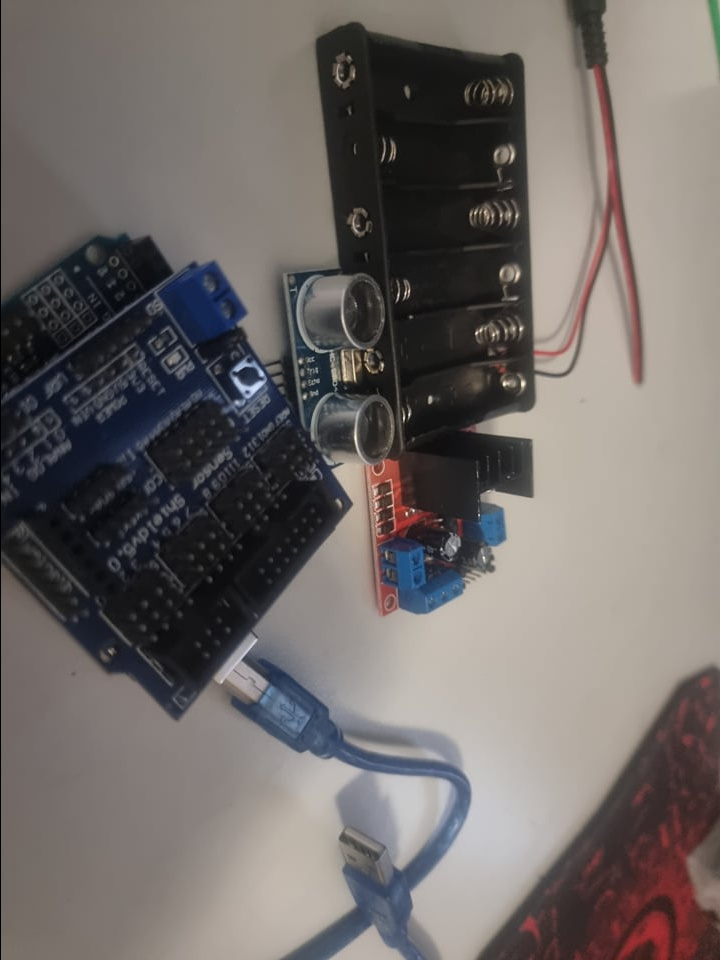5V EXPANSION: (8, 267, 360, 722)
BATTERY BOX: (324, 19, 540, 451)
MOTOR: (364, 424, 535, 620)
SENSOR: (287, 273, 395, 464)
